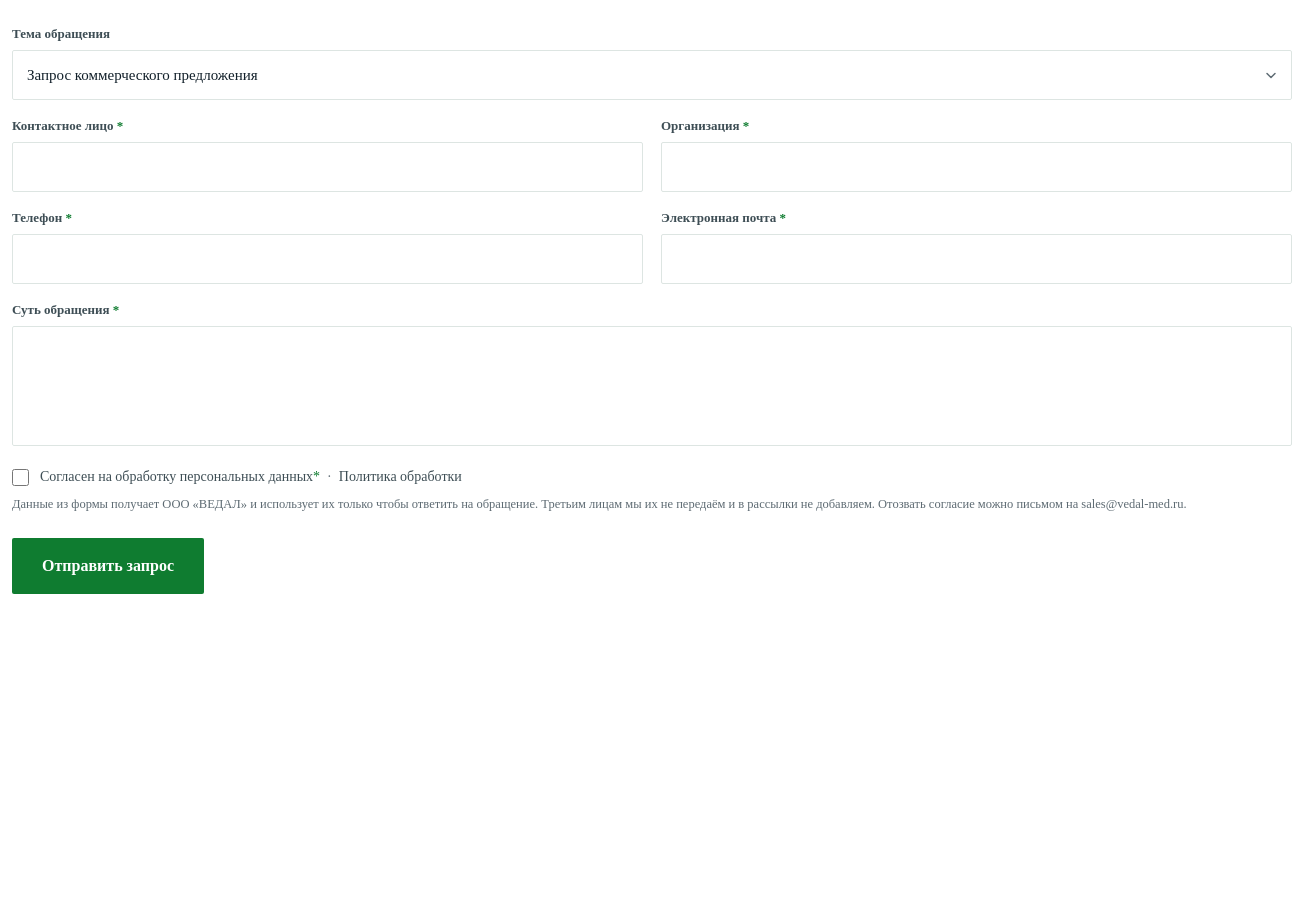
Test: серийный номер спрашивается там, где изделие уже есть › поле появляется при выборе сервисной темы и уходит при смене
Expected: the field labelled "Серийный номер" is not shown
Step 1. Select "Сервисное обращение" in the dropdown labelled "Тема обращения" → (652, 75), box [12, 50, 1292, 100]
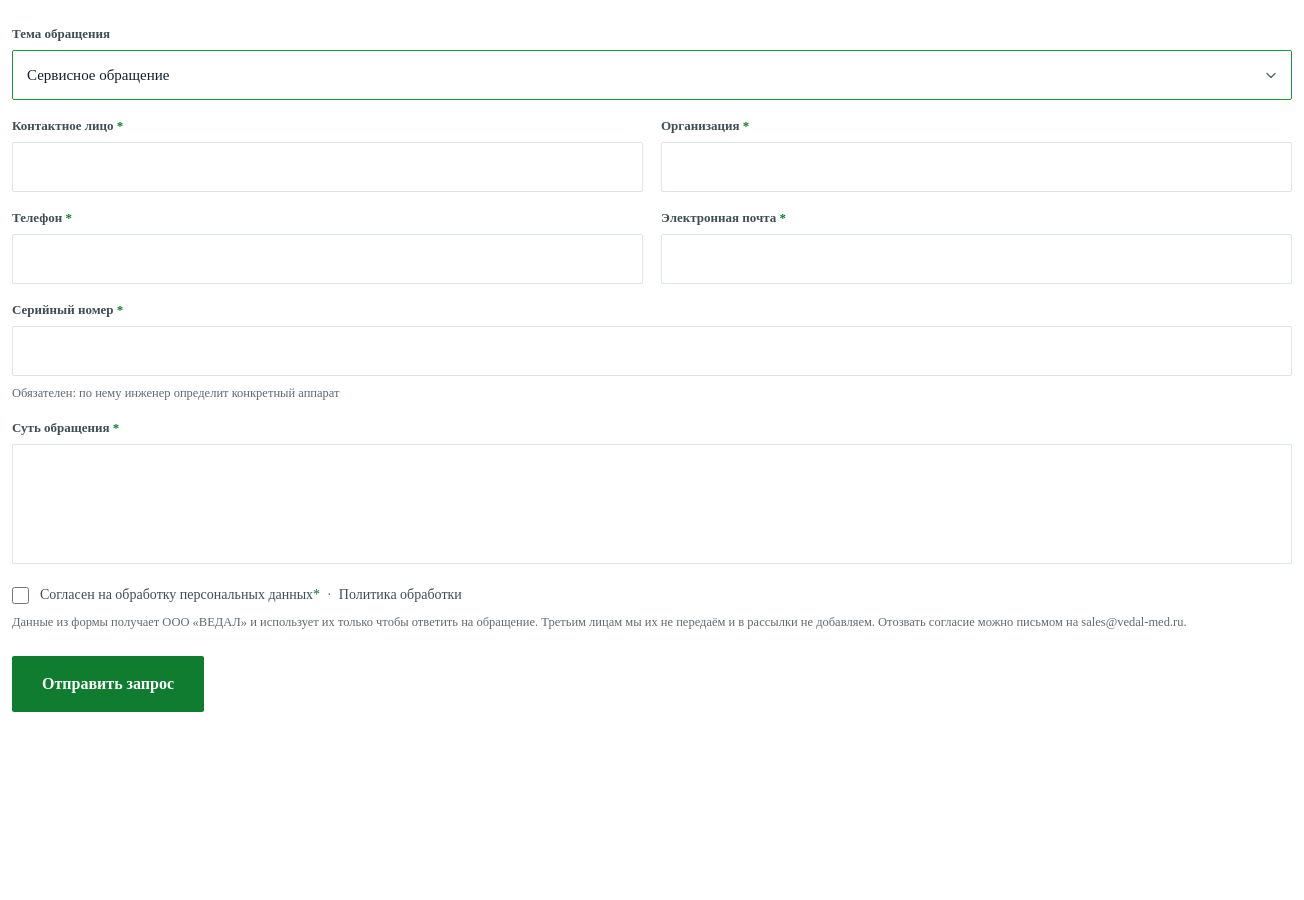
Expected: the field labelled "Серийный номер *" is shown, [12, 326, 1292, 376]
Step 2. Select "Запрос коммерческого предложения" in the dropdown labelled "Тема обращения" → (652, 75), box [12, 50, 1292, 100]
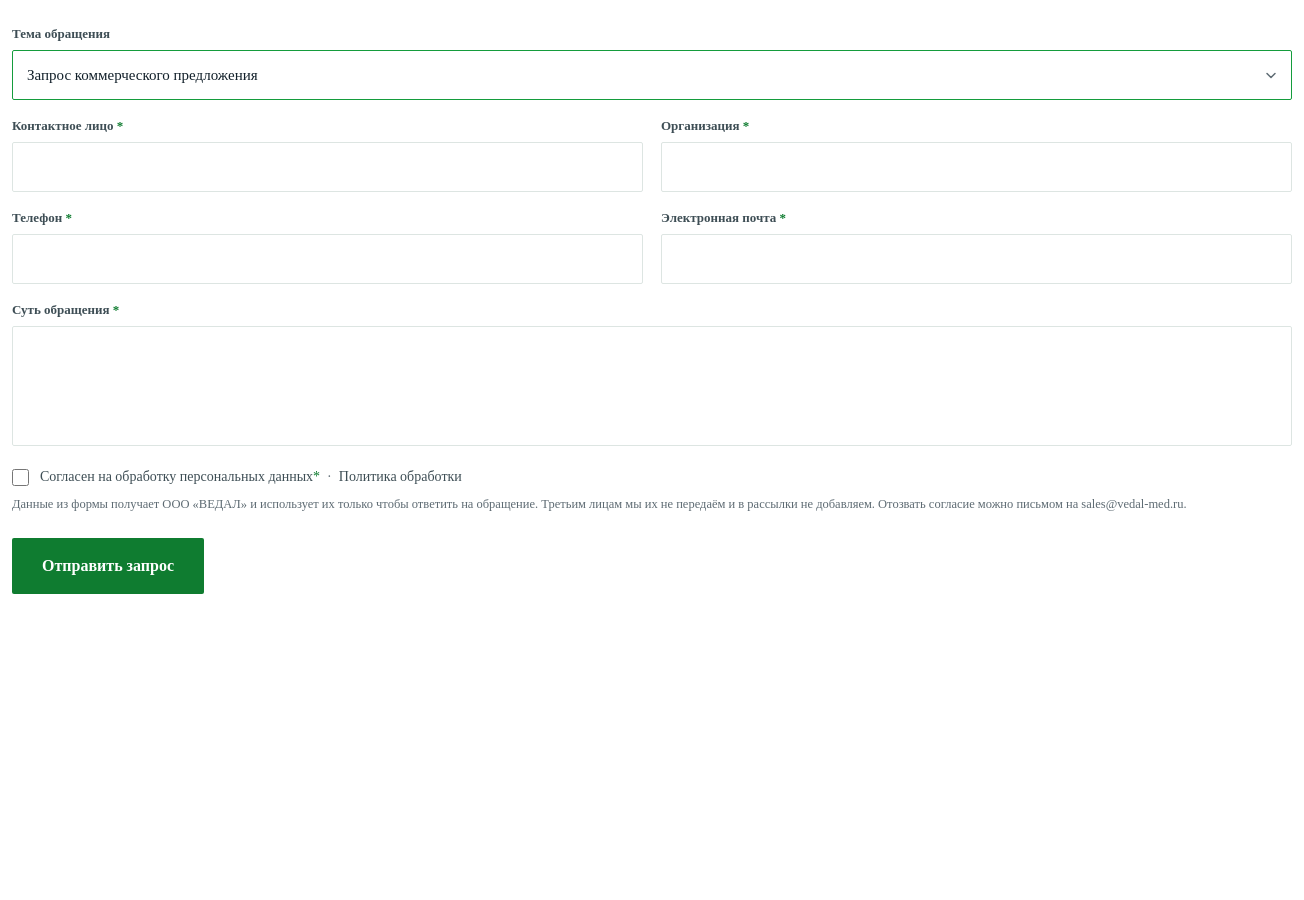
Expected: the label labelled "Серийный номер" is gone
